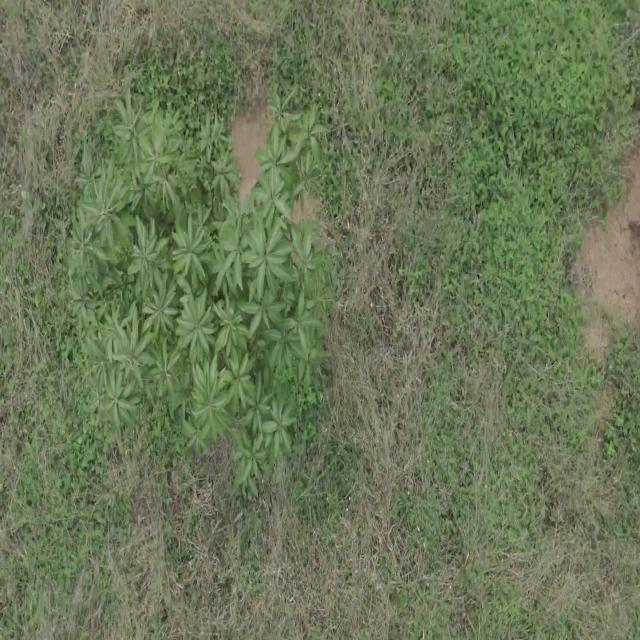mangoTree: (64, 70, 328, 503)
